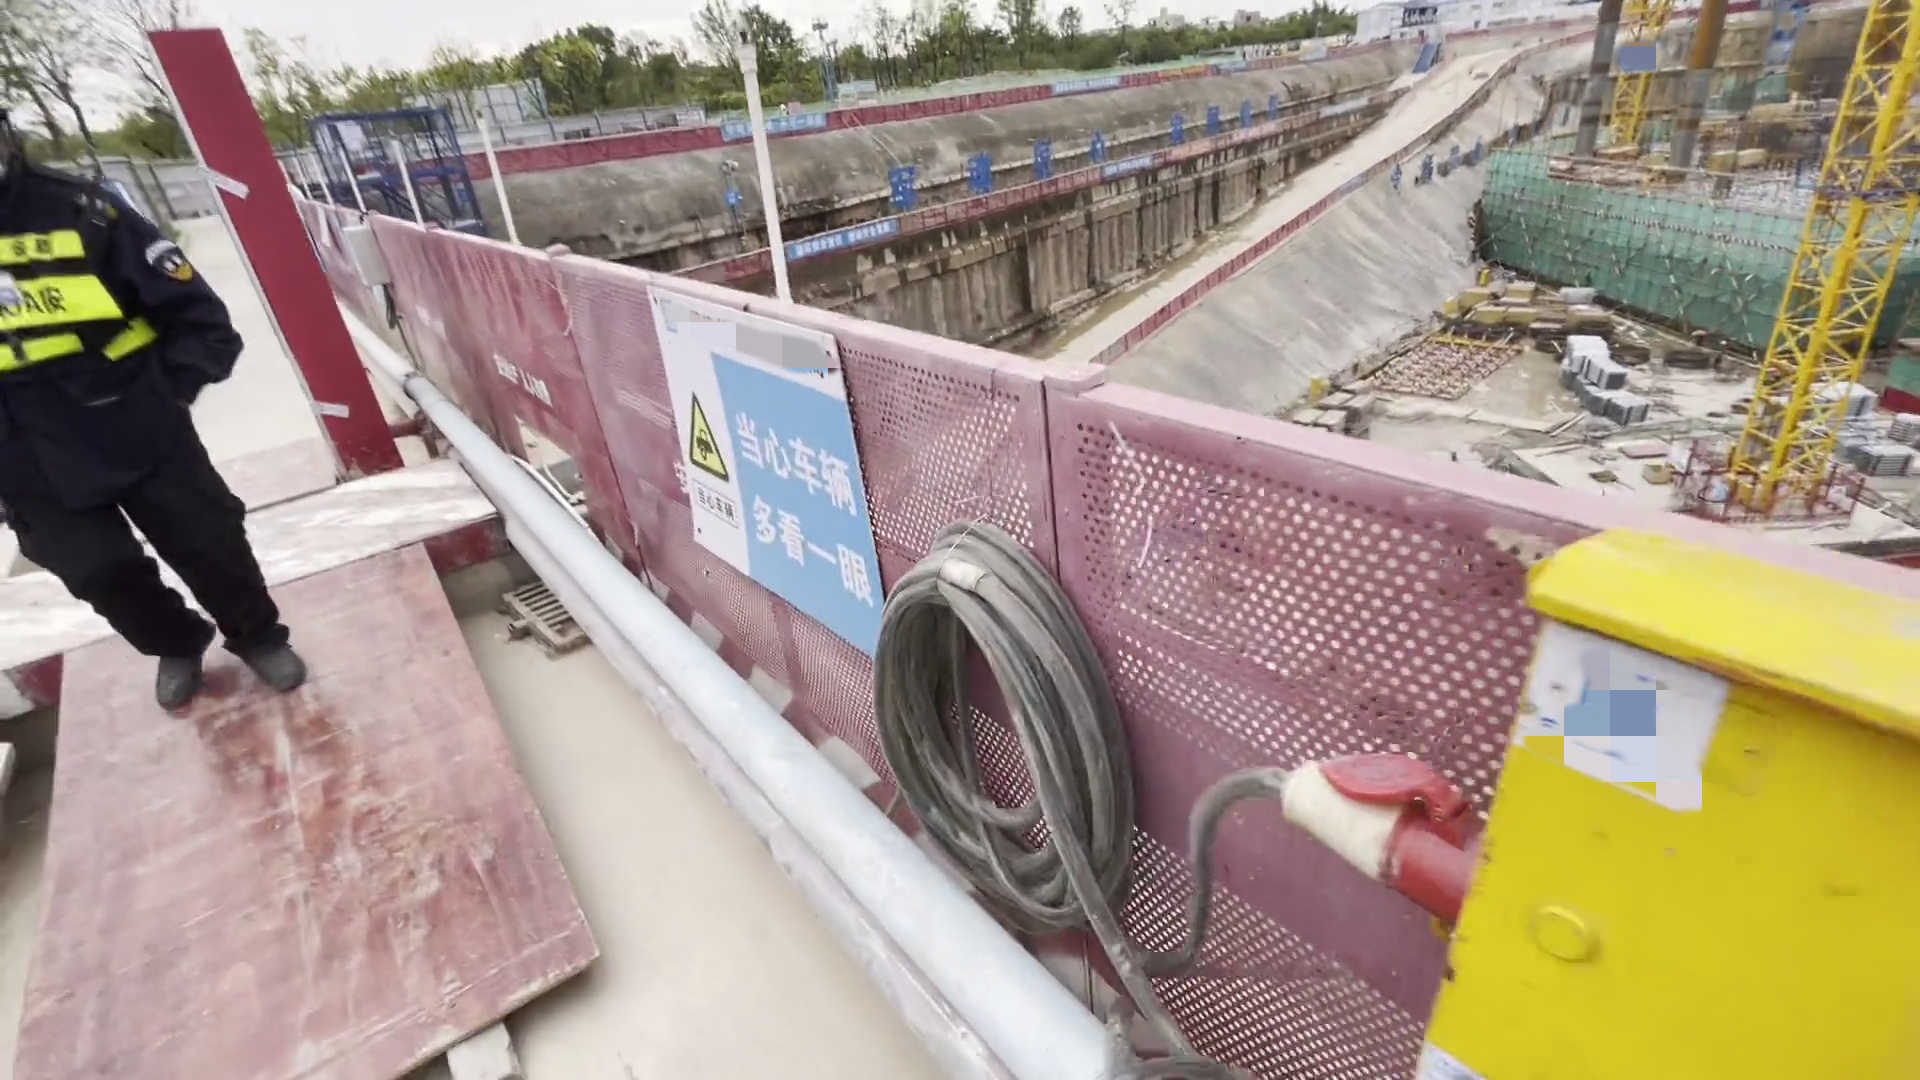ebox: (1408, 506, 1920, 1080)
fence: (344, 209, 1490, 978)
person: (5, 119, 299, 712)
